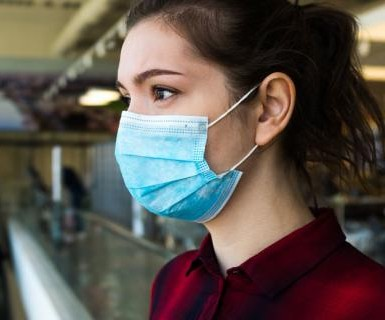with_mask: (106, 2, 333, 251)
